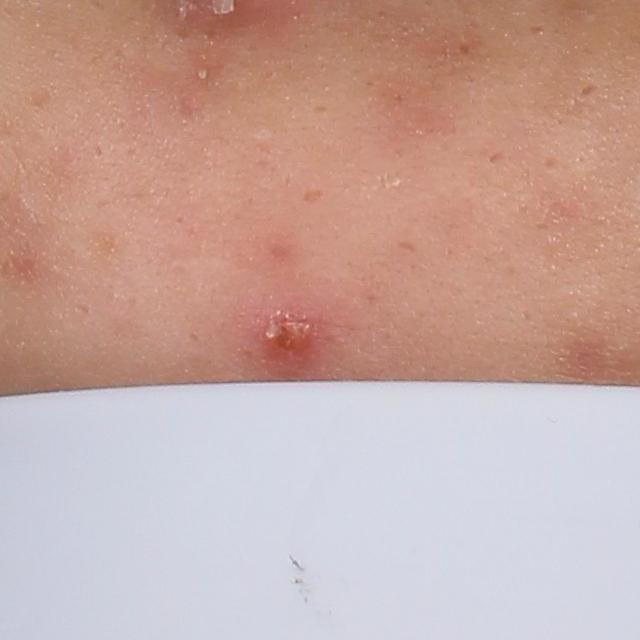atrophic_scar: (298, 187, 326, 206), (393, 238, 421, 257), (577, 81, 601, 102), (529, 25, 546, 36)
papule: (261, 302, 324, 364)
